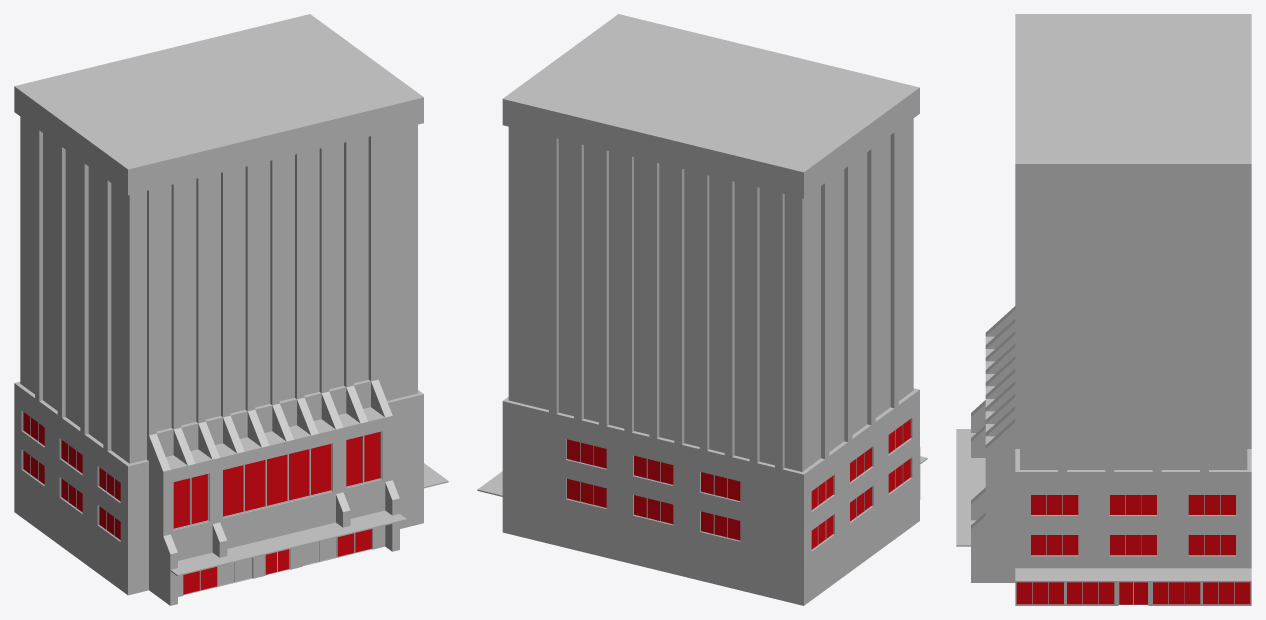
The model's file is SM_House_04.gltf.
3 renders of one model, left to right at view 1: azimuth 30°, elevation 25°; view 2: azimuth 150°, elevation 25°; view 3: azimuth 270°, elevation 25°, orthographic. The views are drawn at different scales.
Visible parts, largest first — view 1: House_04; view 2: House_04; view 3: House_04.
Part boxes in pixels (box(x1,y1,x2,y2)): House_04: box(14, 14, 448, 605); House_04: box(477, 14, 927, 605); House_04: box(956, 14, 1251, 605).
Bounding box in the file's own units: 26 × 33 × 20.
